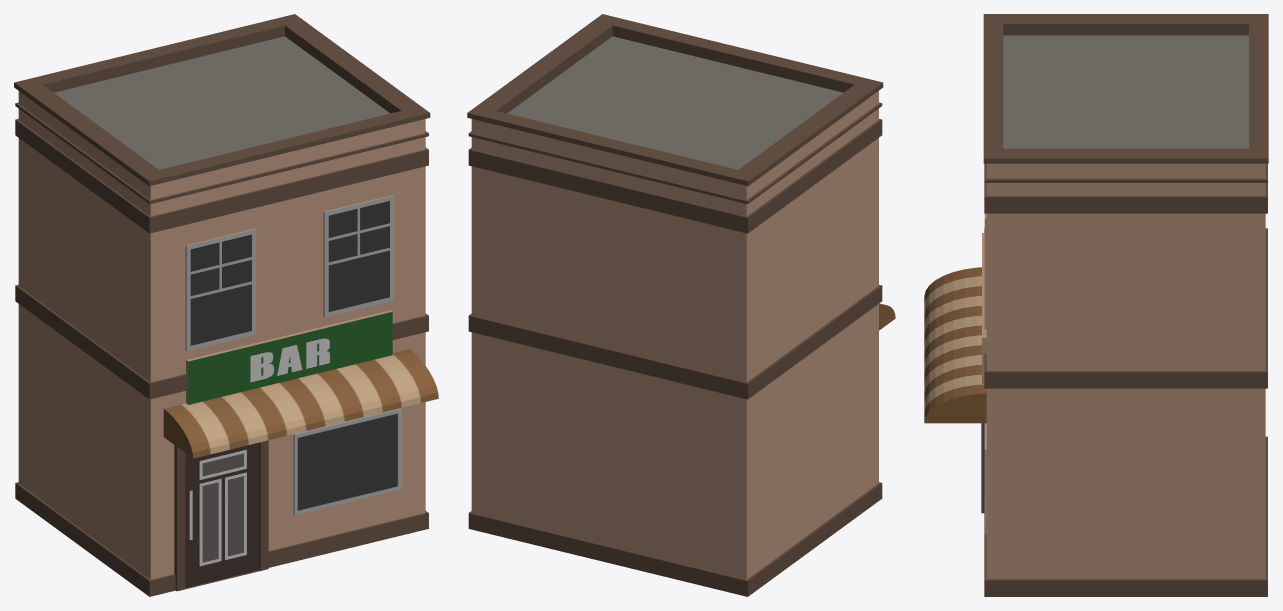
Rendered from building-bar.glb.
3 views of the same model, side by side, from view 1: azimuth 30°, elevation 25°; view 2: azimuth 150°, elevation 25°; view 3: azimuth 270°, elevation 25° (orthographic). The views are drawn at different scales.
Parts seen in each view (by area): view 1: Building_Bar; view 2: Building_Bar; view 3: Building_Bar.
Part boxes in pixels (x1=…): Building_Bar: x1=14, y1=14, x2=438, y2=596; Building_Bar: x1=467, y1=14, x2=895, y2=596; Building_Bar: x1=924, y1=14, x2=1268, y2=596.
Bounding box in the file's own units: 7.36 × 10.41 × 7.41.
Materials: 1 (1 with a texture image).
